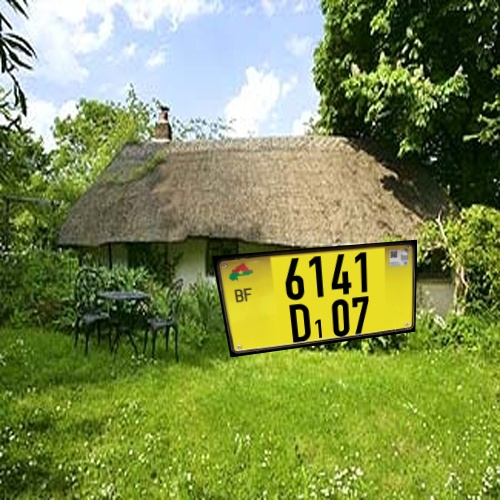plate: (193, 230, 442, 360)
